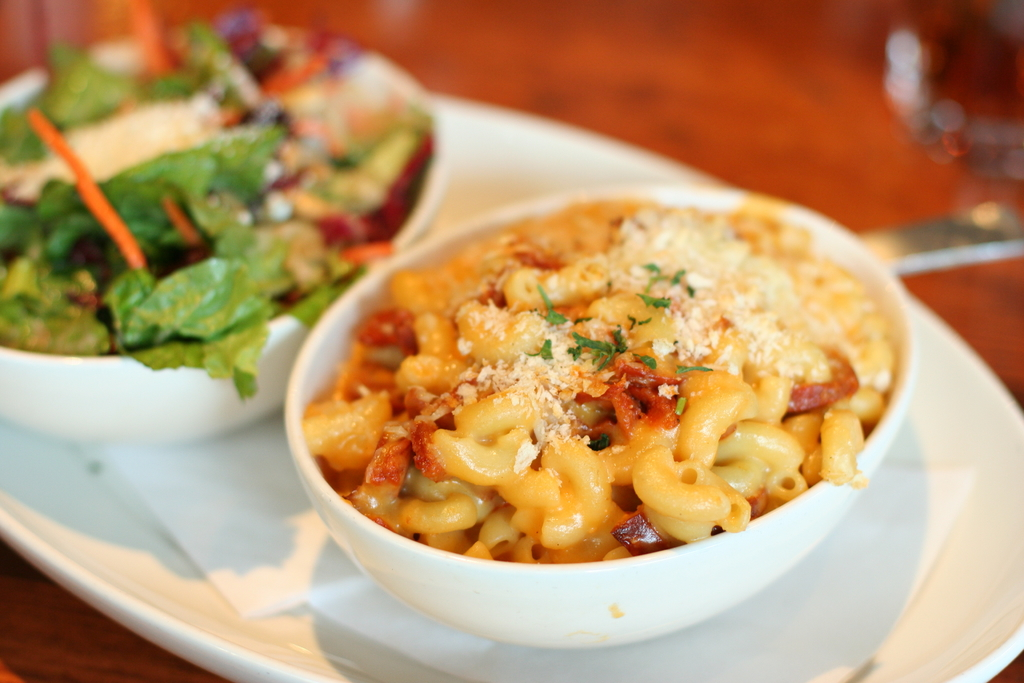pasta: (236, 154, 966, 609)
